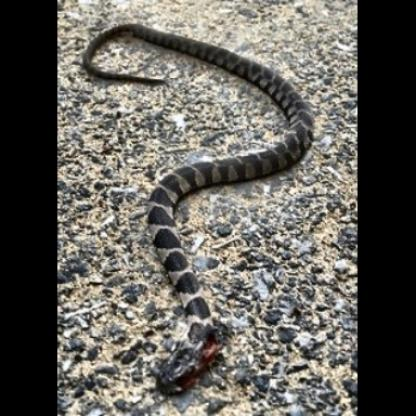Snake: (78, 14, 335, 406)
